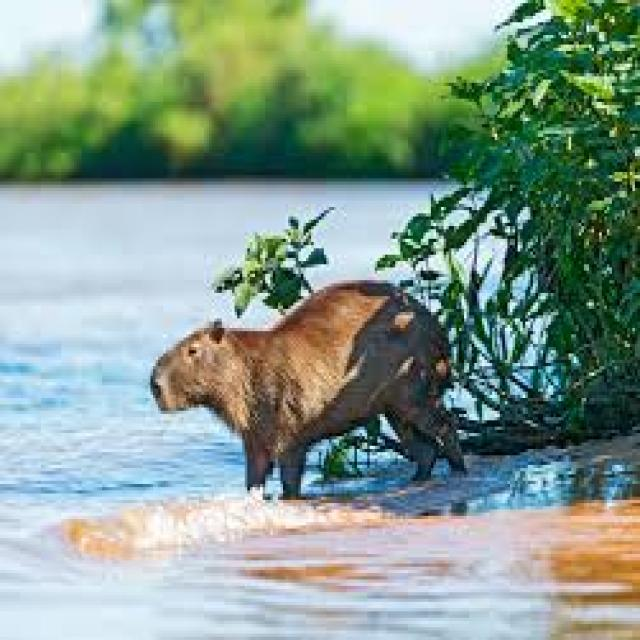capy: (147, 279, 468, 496)
